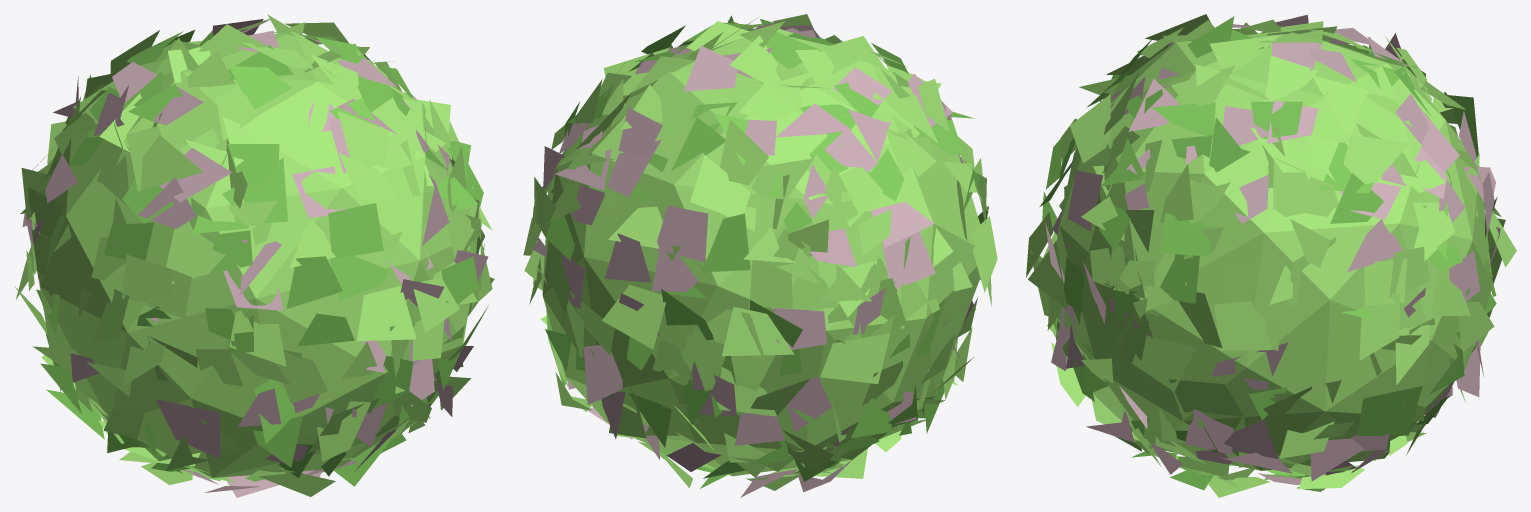
File: Busch rund (1).fbx
The picture shows the model from 3 angles, left to right: view 1: azimuth 30°, elevation 25°; view 2: azimuth 150°, elevation 25°; view 3: azimuth 270°, elevation 25°; orthographic projection.
Parts seen in each view (by area): view 1: Cube; view 2: Cube; view 3: Cube.
Part boxes in pixels (x1,y1,x2,y2): Cube: [14, 14, 494, 497]; Cube: [523, 14, 997, 497]; Cube: [1026, 14, 1516, 497].
Size of the model in its own units: 206 by 204 by 211.
